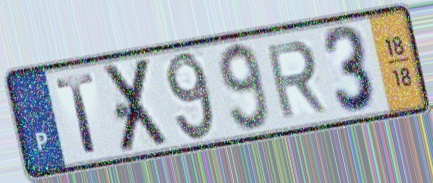3: (321, 22, 379, 116)
9: (214, 38, 274, 135), (162, 49, 217, 143)
R: (262, 38, 330, 123)
T: (53, 70, 101, 157)
X: (101, 54, 173, 157)
